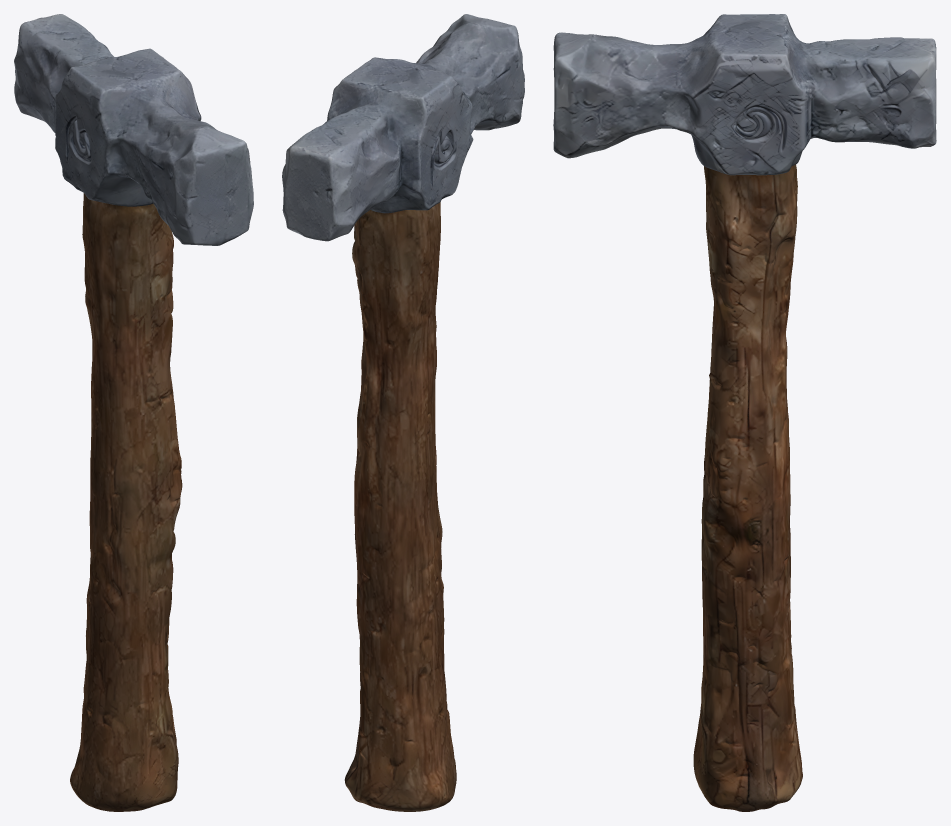
3 renders of one model, left to right at view 1: azimuth 30°, elevation 25°; view 2: azimuth 150°, elevation 25°; view 3: azimuth 270°, elevation 25°, orthographic. The views are drawn at different scales.
Visible parts, largest first — view 1: tripo_node_8db0e6c6-2885-4eb7-be8b-6fa794582fb7; view 2: tripo_node_8db0e6c6-2885-4eb7-be8b-6fa794582fb7; view 3: tripo_node_8db0e6c6-2885-4eb7-be8b-6fa794582fb7.
Part boxes in pixels (<box>): tripo_node_8db0e6c6-2885-4eb7-be8b-6fa794582fb7: <box>14,14,253,811</box>; tripo_node_8db0e6c6-2885-4eb7-be8b-6fa794582fb7: <box>282,14,524,811</box>; tripo_node_8db0e6c6-2885-4eb7-be8b-6fa794582fb7: <box>553,14,936,811</box>.
Bounding box in the file's own units: 0.1417 × 1 × 0.4549.
1 material, 1 textured.
